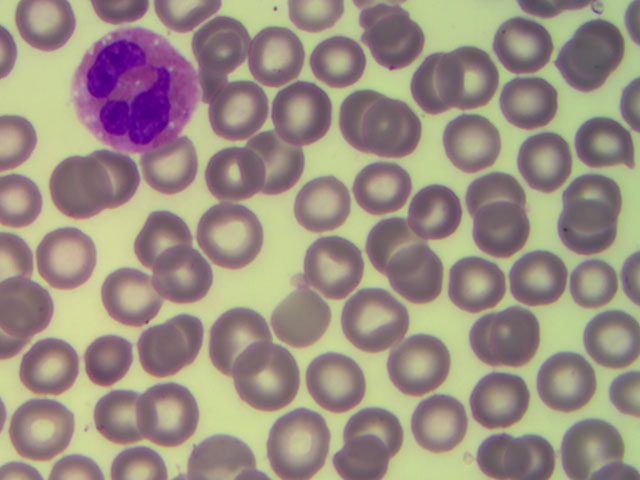RBC: (508, 417, 565, 480), (450, 417, 507, 480), (245, 25, 302, 87), (191, 35, 248, 97), (197, 2, 254, 64), (22, 1, 79, 63), (46, 154, 103, 216), (83, 149, 140, 211), (148, 135, 205, 197), (211, 146, 268, 208), (245, 119, 302, 181), (282, 86, 339, 148), (218, 82, 275, 144), (310, 34, 367, 96), (340, 92, 397, 154), (372, 96, 429, 158), (296, 171, 353, 233), (211, 206, 268, 268), (150, 247, 207, 309), (133, 209, 190, 271), (113, 261, 170, 323), (44, 223, 101, 285), (10, 278, 67, 340), (21, 330, 78, 392), (84, 326, 141, 388), (132, 319, 189, 381), (160, 306, 217, 368), (212, 297, 269, 359), (237, 342, 294, 404), (270, 282, 327, 344), (307, 236, 364, 298), (348, 211, 405, 273), (396, 183, 453, 245), (354, 158, 411, 220), (387, 244, 444, 306), (441, 256, 498, 318), (462, 194, 519, 256), (474, 168, 531, 230), (443, 106, 500, 168), (448, 44, 505, 106), (422, 56, 479, 118), (495, 14, 552, 76), (507, 73, 564, 135), (522, 127, 579, 189), (571, 112, 628, 174), (565, 173, 622, 235), (559, 208, 616, 270), (562, 256, 619, 318), (580, 301, 637, 363), (541, 346, 598, 408), (563, 413, 620, 475), (480, 371, 537, 433), (416, 389, 473, 451), (386, 332, 443, 394), (348, 293, 405, 355), (304, 353, 361, 415), (345, 402, 402, 464), (276, 409, 333, 471), (141, 386, 198, 448), (102, 385, 159, 447), (13, 397, 70, 459), (550, 36, 607, 98), (570, 11, 627, 73)
WBC: (74, 30, 192, 151)
